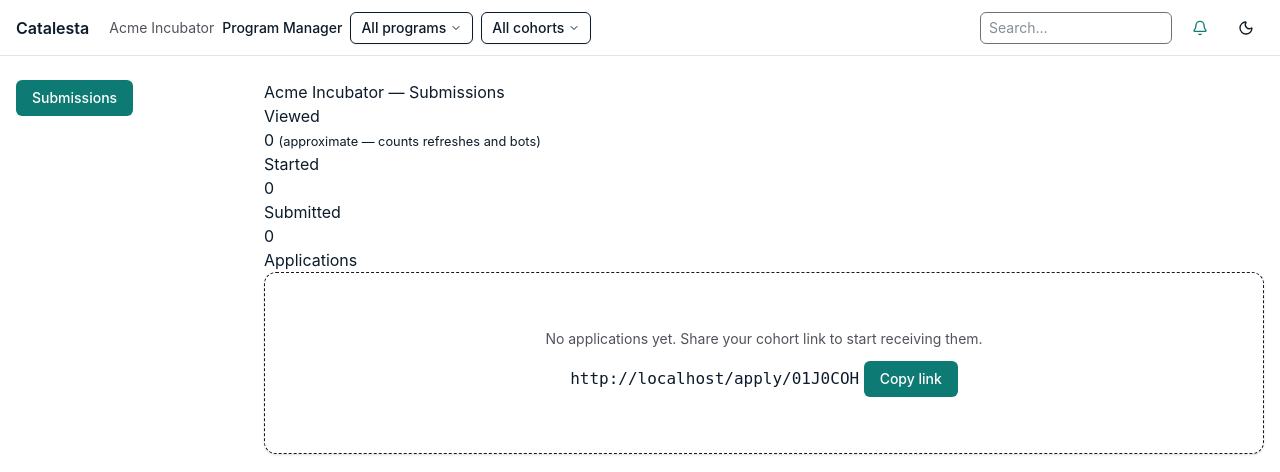
it: zero-day: no submissions shows the empty state + copyable share link
The image size is (1280, 472).
Expected: the text "No applications yet" is shown, [545, 330, 983, 347]
Expected: the text "http://localhost/apply/01J0COH" is shown, [570, 369, 859, 388]
What coordinates should you click on to do the following:
click the button "Copy link"
I would click on:
 (911, 379)
Its box is [864, 361, 958, 397].
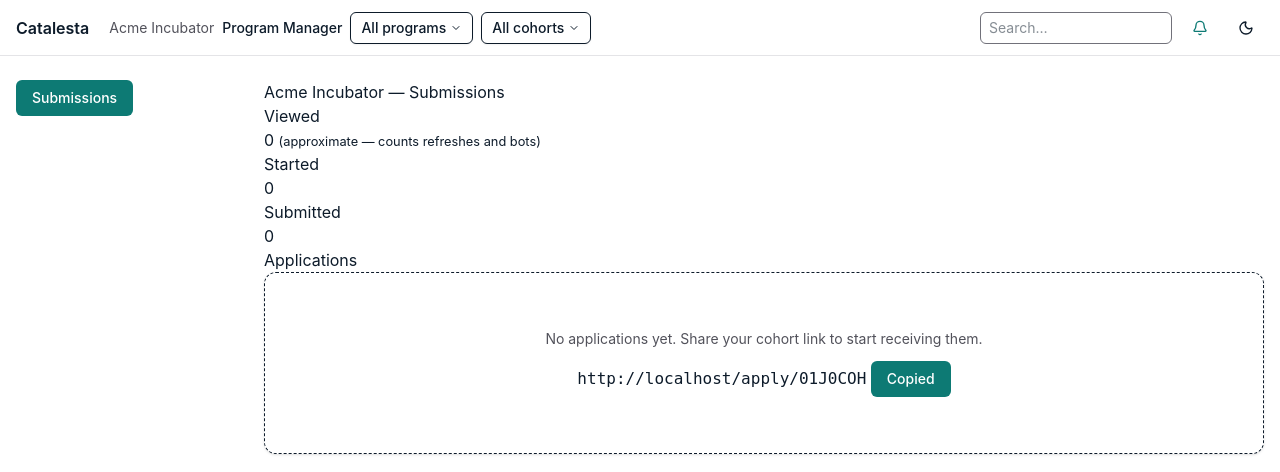
Expected: the button "Copied" is shown, [871, 361, 951, 397]
